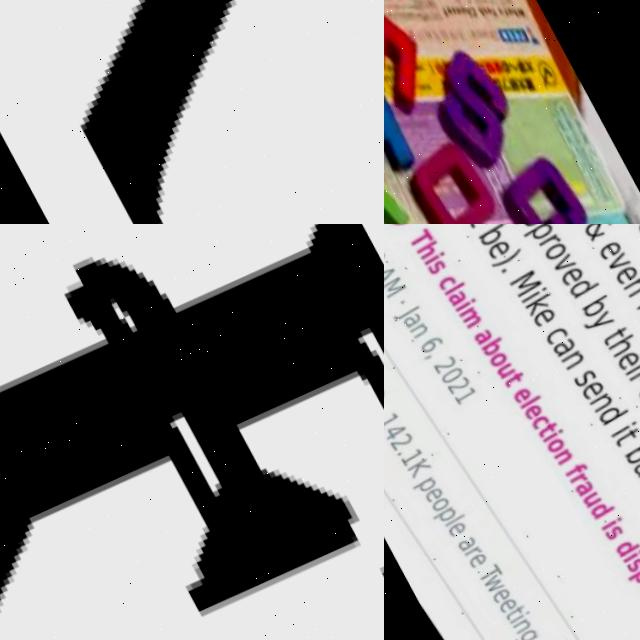0: (431, 364, 461, 387)
1: (441, 384, 476, 408), (388, 444, 421, 467), (384, 409, 396, 431)
2: (424, 353, 455, 375), (438, 373, 467, 395), (384, 430, 410, 452)
4: (384, 418, 403, 441)
6: (410, 332, 441, 355)
E: (384, 0, 444, 127)
F: (0, 224, 384, 640)
G: (482, 144, 598, 224)
K: (0, 0, 384, 224)
O: (392, 134, 504, 224)
S: (412, 41, 532, 173)
T: (384, 69, 419, 190)
